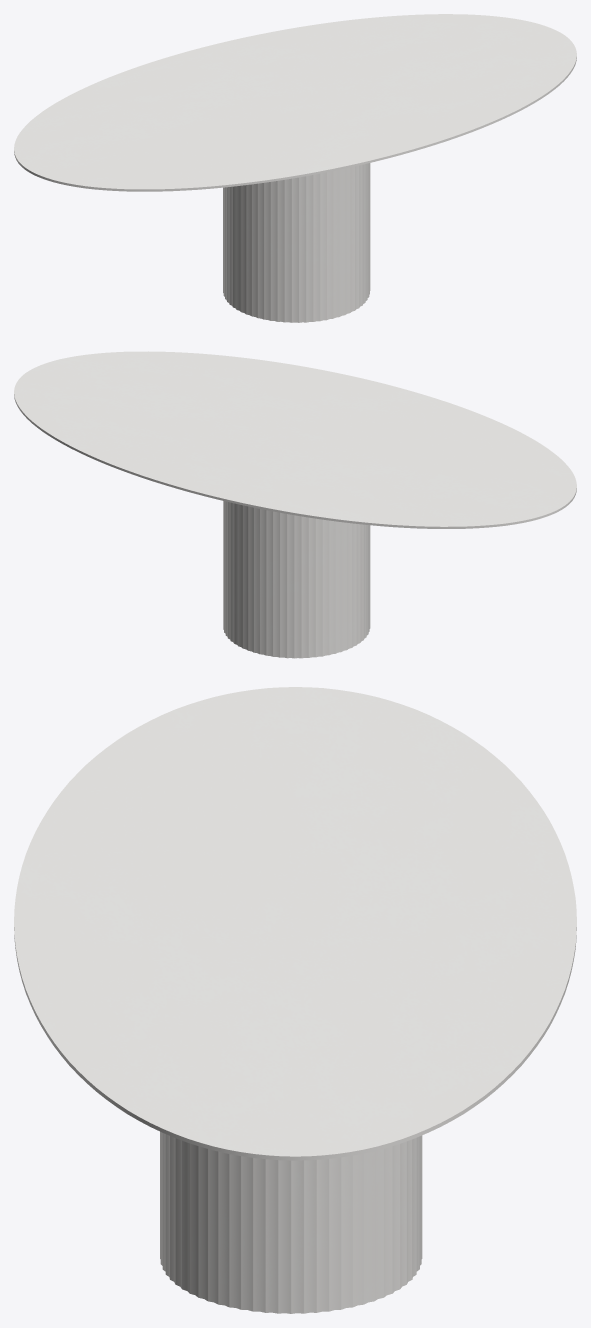
Rendered from purewhite_ellips_facet_ripple.glb.
3 views of the same model, one above another, from view 1: azimuth 30°, elevation 25°; view 2: azimuth 150°, elevation 25°; view 3: azimuth 270°, elevation 25° (orthographic). The views are drawn at different scales.
Visible parts, largest first — view 1: facet_ellips, ripple; view 2: facet_ellips, ripple; view 3: facet_ellips, ripple.
Boxes of the visible parts, <box> form: facet_ellips: <box>14,14,576,191</box>; ripple: <box>223,163,370,322</box>; facet_ellips: <box>14,351,576,528</box>; ripple: <box>223,501,370,658</box>; facet_ellips: <box>14,687,576,1160</box>; ripple: <box>160,1131,422,1313</box>.
Size of the model in its own units: 7.5 by 2.51 by 3.8.
1 material, 1 textured.
